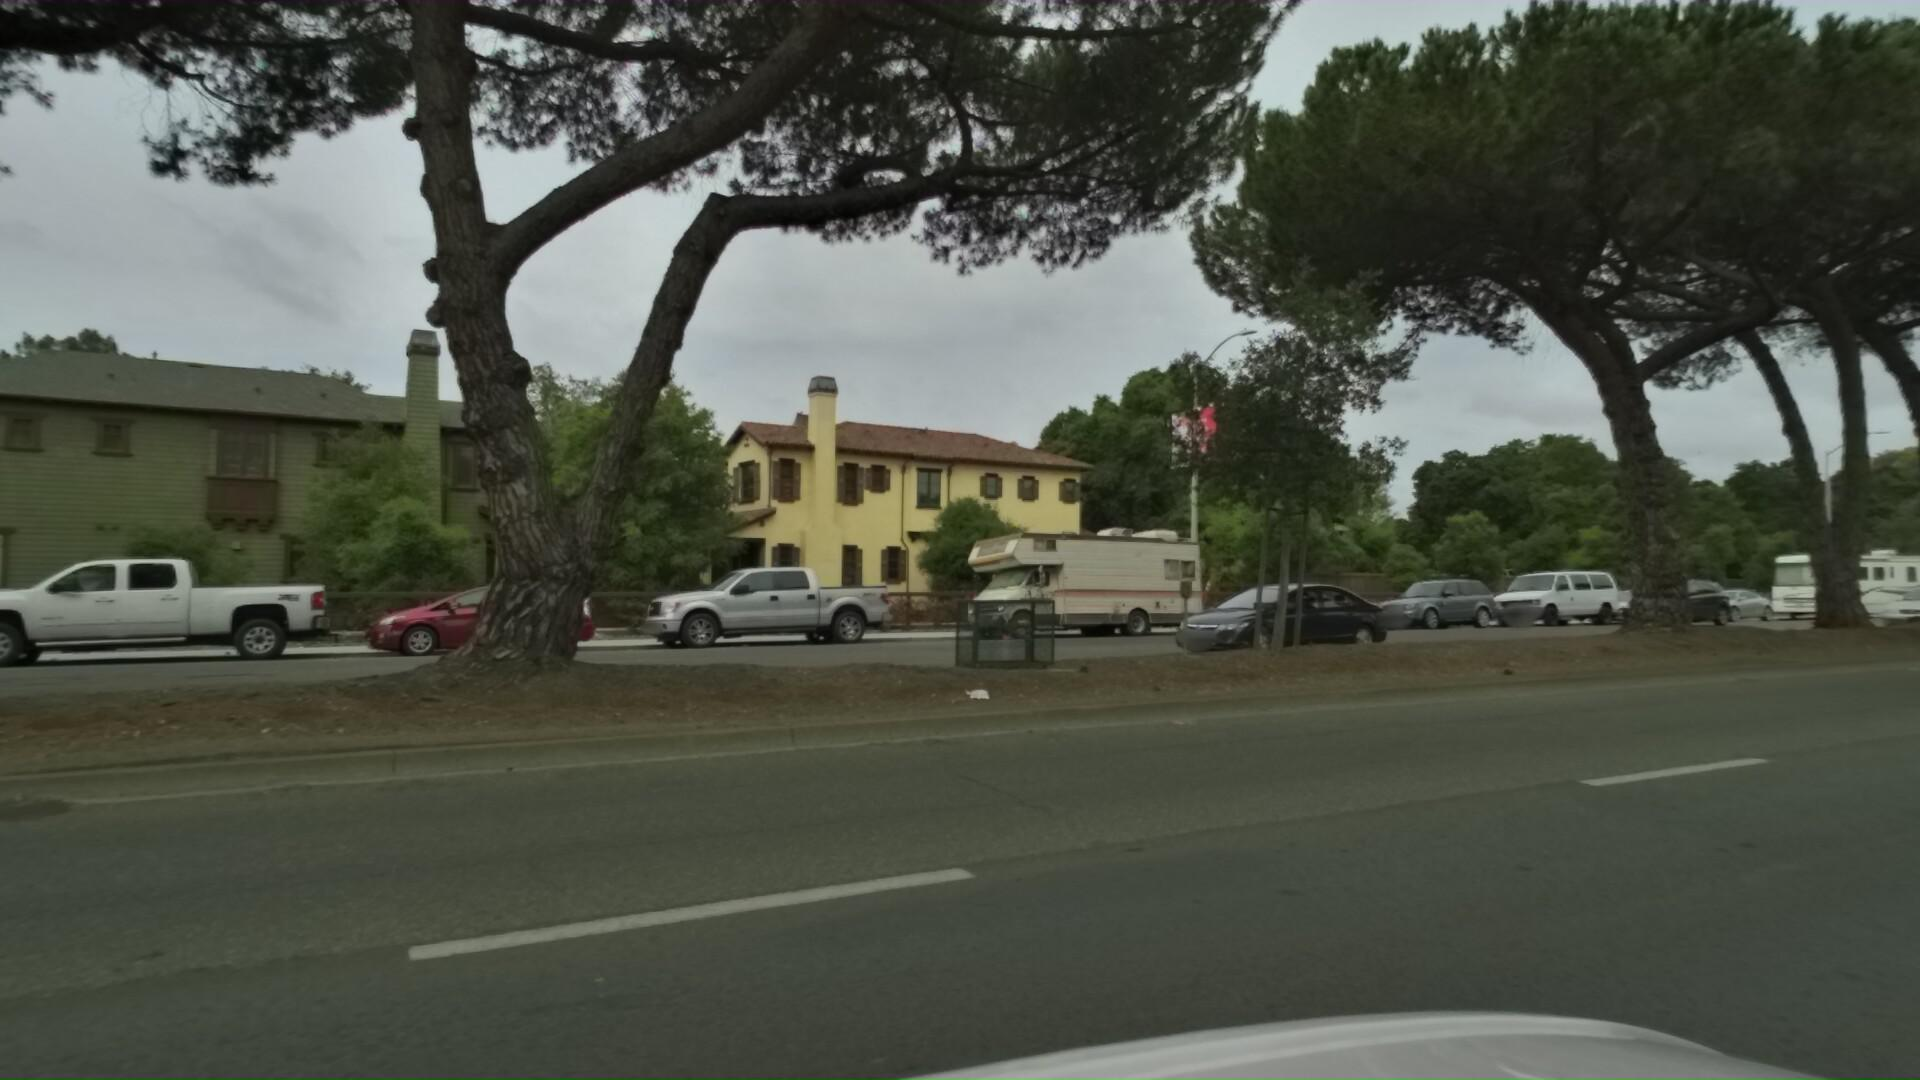car: (600, 559, 877, 655), (1102, 579, 1349, 670), (327, 576, 580, 662), (1468, 563, 1618, 626), (1346, 574, 1493, 632), (1208, 583, 1350, 636), (1581, 575, 1709, 626), (1659, 578, 1776, 626), (1841, 580, 1920, 637), (1916, 572, 1920, 622)
other_vehicle: (928, 517, 1230, 644), (1742, 534, 1920, 620)
